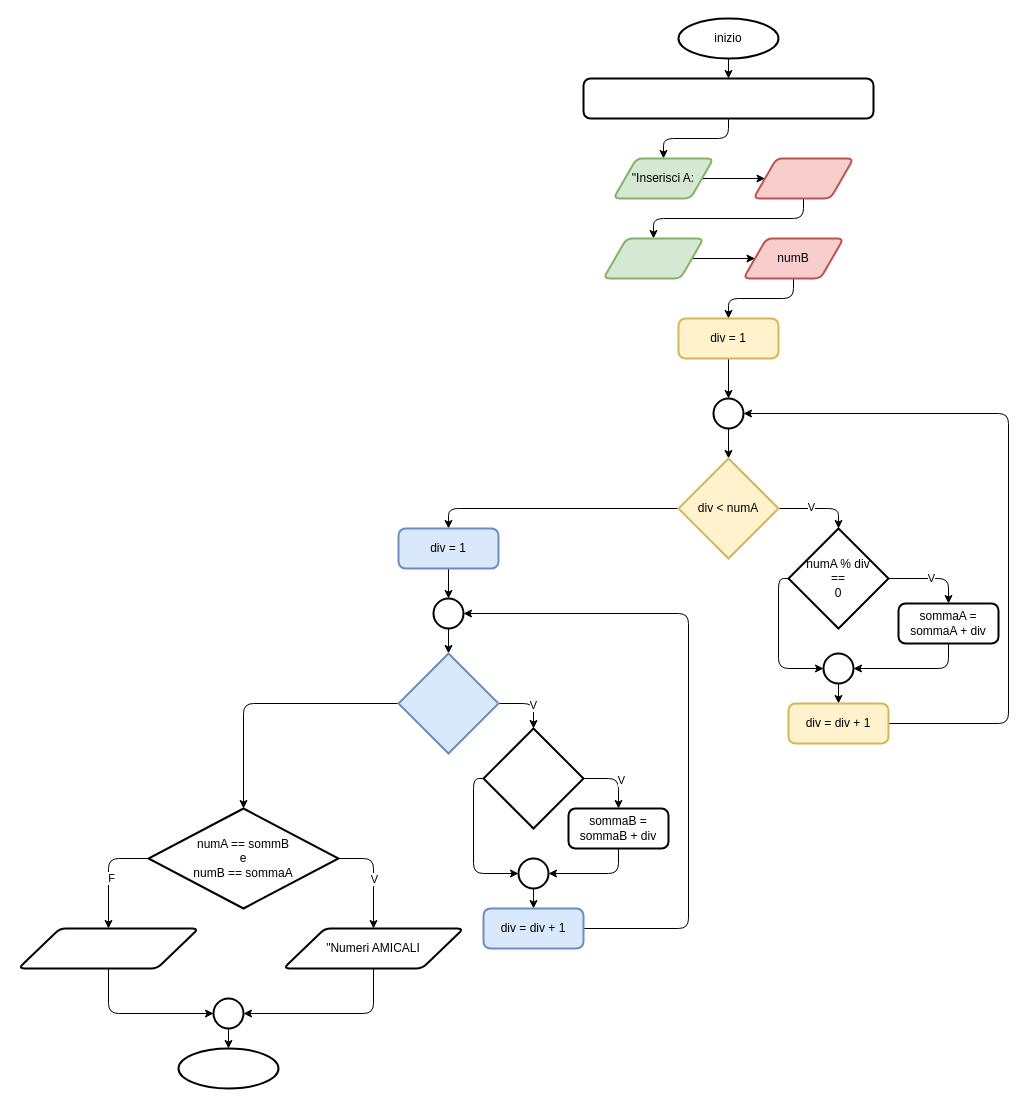
Some shapes in this 1034 by 1106 pixel diagram are drawn without their labels. Here are the shapes that lost their labels. From the top down, the box of each, then its label:
(582, 77, 874, 119): numA = 0 numB = 0 div = 0 sommaA = 0 sommaB = 0
(752, 157, 854, 199): numA
(602, 237, 704, 279): "Inserisci B:
(397, 652, 499, 754): div < numB
(482, 727, 584, 829): numB % div == 0
(17, 927, 199, 969): "Numeri NON AMICALI
(177, 1047, 279, 1089): fine
